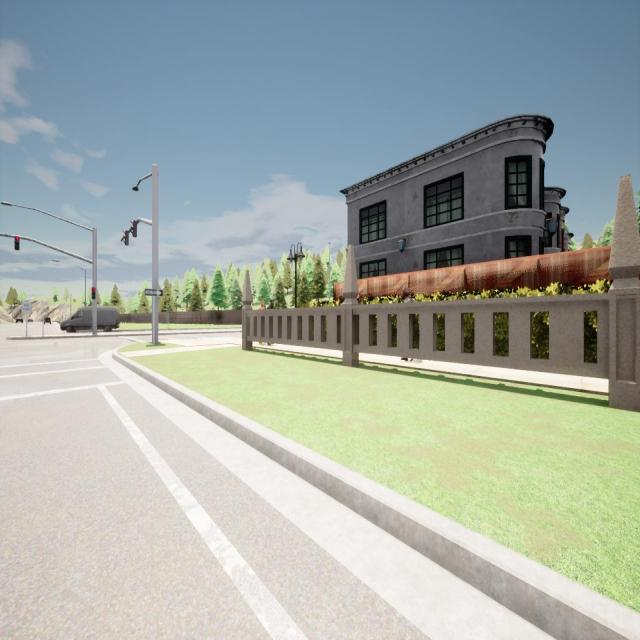Pedestrian: (400, 288, 415, 304), (337, 294, 344, 306), (258, 300, 266, 310), (268, 300, 274, 309)
Traffic_Signs: (145, 289, 163, 296), (22, 302, 31, 314)
Vehicle: (60, 308, 120, 332), (44, 317, 51, 325), (16, 316, 23, 323), (28, 319, 33, 323)
traffic_light: (130, 220, 137, 237), (123, 230, 129, 246), (15, 236, 19, 249), (92, 287, 95, 300)
